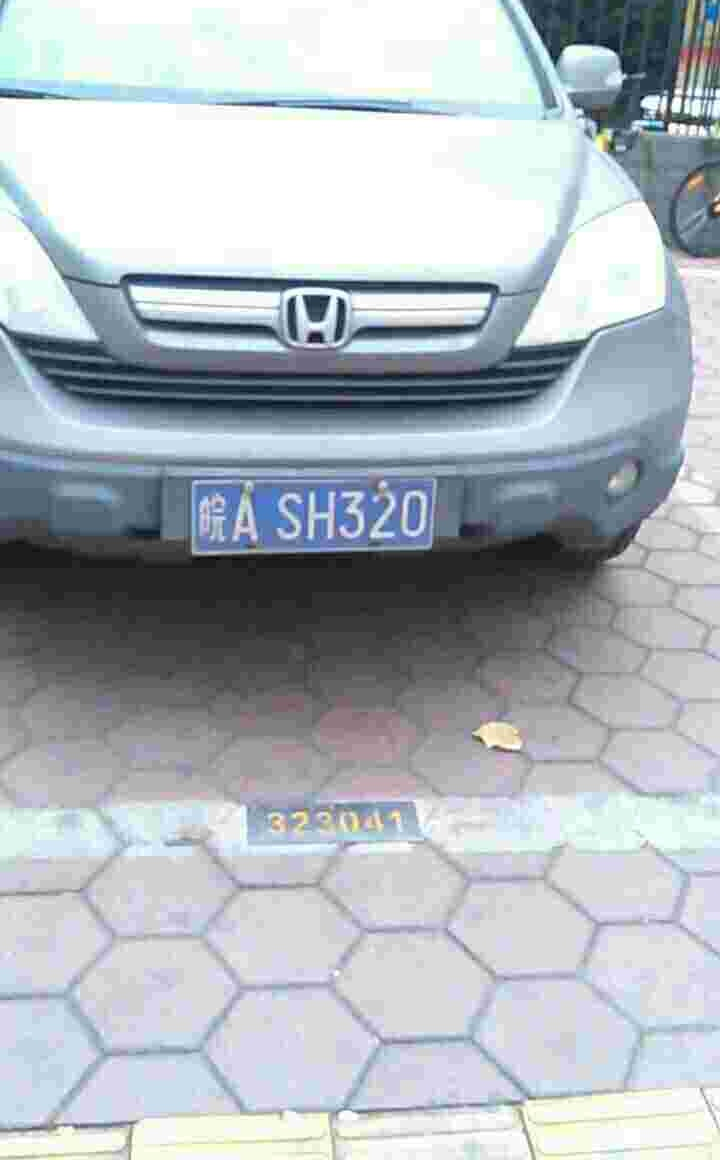plate: (195, 474, 442, 557)
